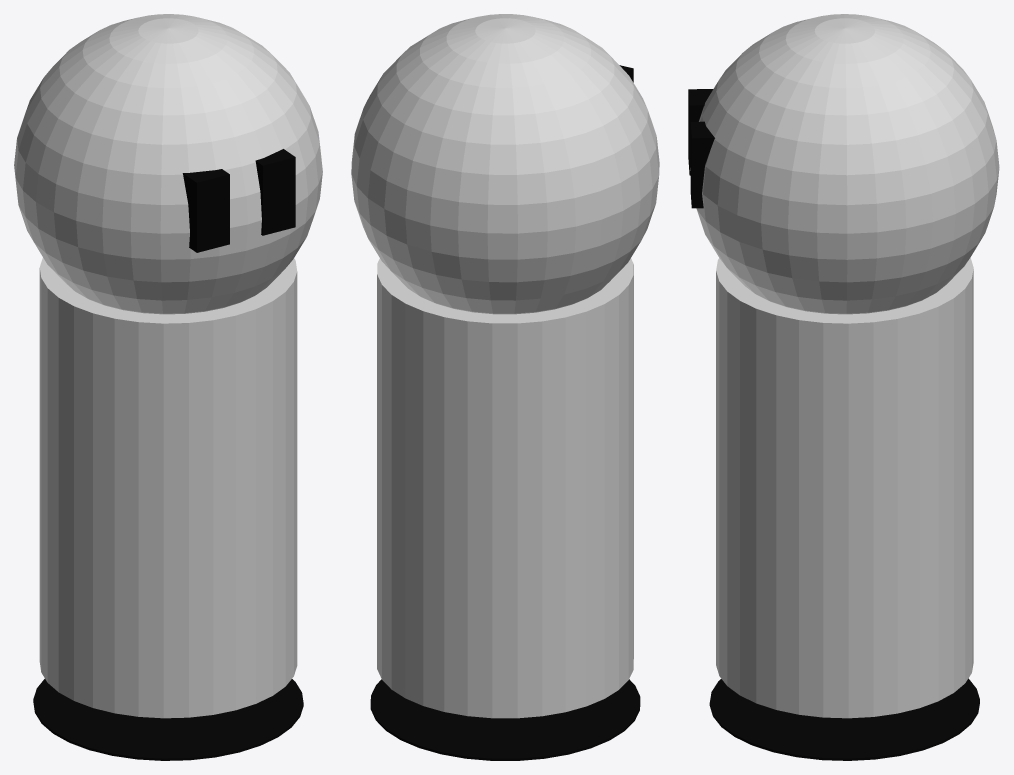
File: enemyglb.glb
3 renders of one model, left to right at view 1: azimuth 30°, elevation 25°; view 2: azimuth 150°, elevation 25°; view 3: azimuth 270°, elevation 25°, orthographic.
Visible parts, largest first — view 1: Cylinder, Sphere, Cylinder.001, Cube, Cube.001; view 2: Cylinder, Sphere, Cylinder.001; view 3: Cylinder, Sphere, Cylinder.001, Cube.001, Cube.
Part boxes in pixels (left/top/right/bottom): Cylinder: left=39, top=258, right=297, bottom=718; Sphere: left=14, top=14, right=322, bottom=314; Cylinder.001: left=33, top=679, right=303, bottom=760; Cube: left=182, top=169, right=229, bottom=252; Cube.001: left=255, top=149, right=295, bottom=235; Cylinder: left=377, top=258, right=633, bottom=718; Sphere: left=351, top=14, right=659, bottom=314; Cylinder.001: left=370, top=679, right=640, bottom=760; Cylinder: left=716, top=257, right=973, bottom=718; Sphere: left=690, top=14, right=999, bottom=314; Cylinder.001: left=709, top=678, right=979, bottom=760; Cube.001: left=690, top=121, right=714, bottom=208; Cube: left=688, top=89, right=713, bottom=175.
Size of the model in its own units: 2.4 by 5.78 by 2.41.
4 materials, 1 textured.
